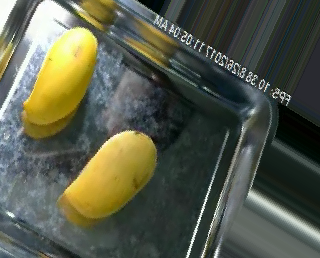Mango: (65, 129, 158, 220), (20, 27, 98, 127)
